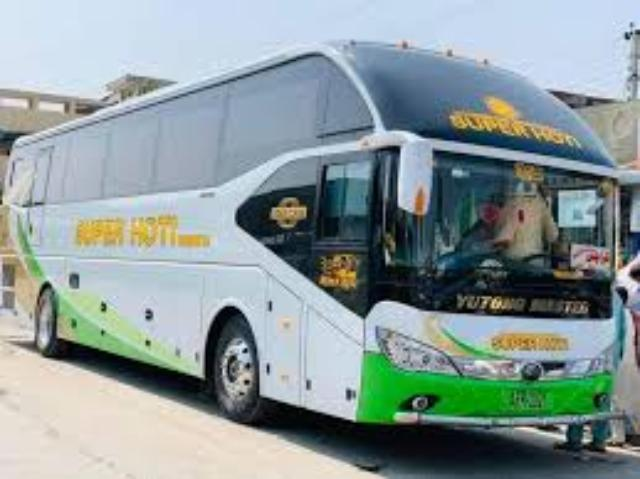Bus: (0, 51, 621, 431)
